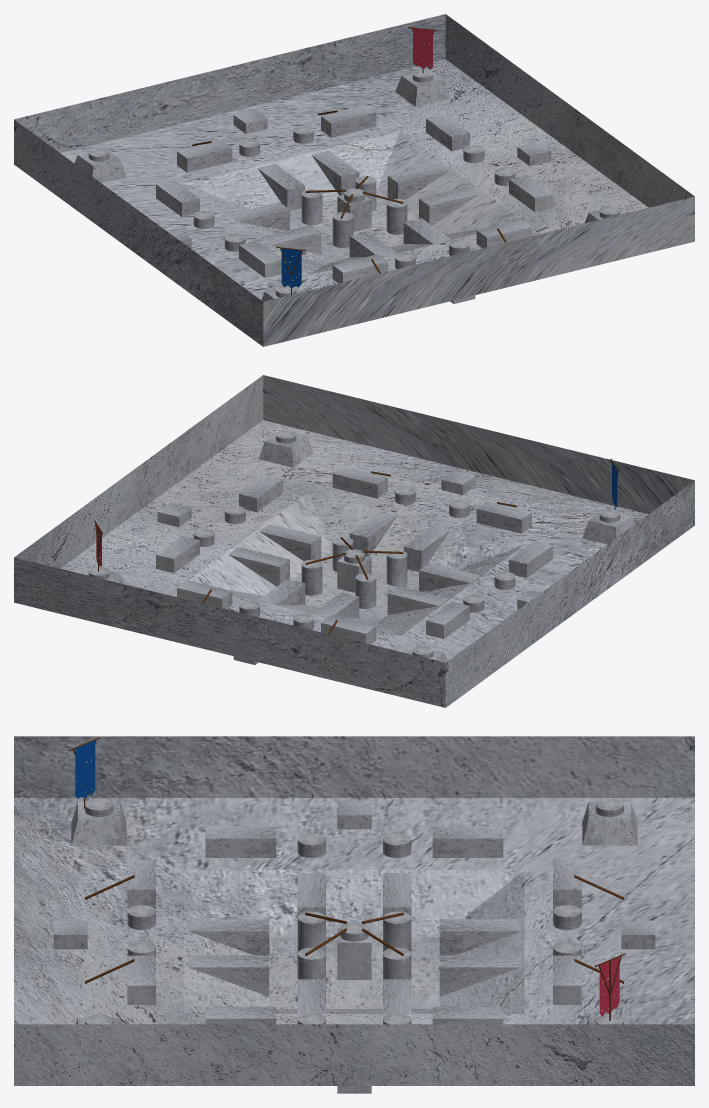
The model's file is PVP_Test_Map2oldBlenderVer.glb.
The picture shows the model from 3 angles, top to bottom: view 1: azimuth 30°, elevation 25°; view 2: azimuth 150°, elevation 25°; view 3: azimuth 270°, elevation 25°; orthographic projection. The views are drawn at different scales.
Visible parts, largest first — view 1: lvl-col; view 2: lvl-col; view 3: lvl-col.
Boxes of the visible parts, <box> form: lvl-col: <box>14,14,694,346</box>; lvl-col: <box>14,375,694,707</box>; lvl-col: <box>14,736,694,1093</box>.
Bounding box in the file's own units: 48 × 10.15 × 48.
Materials: 7 (7 with a texture image).
